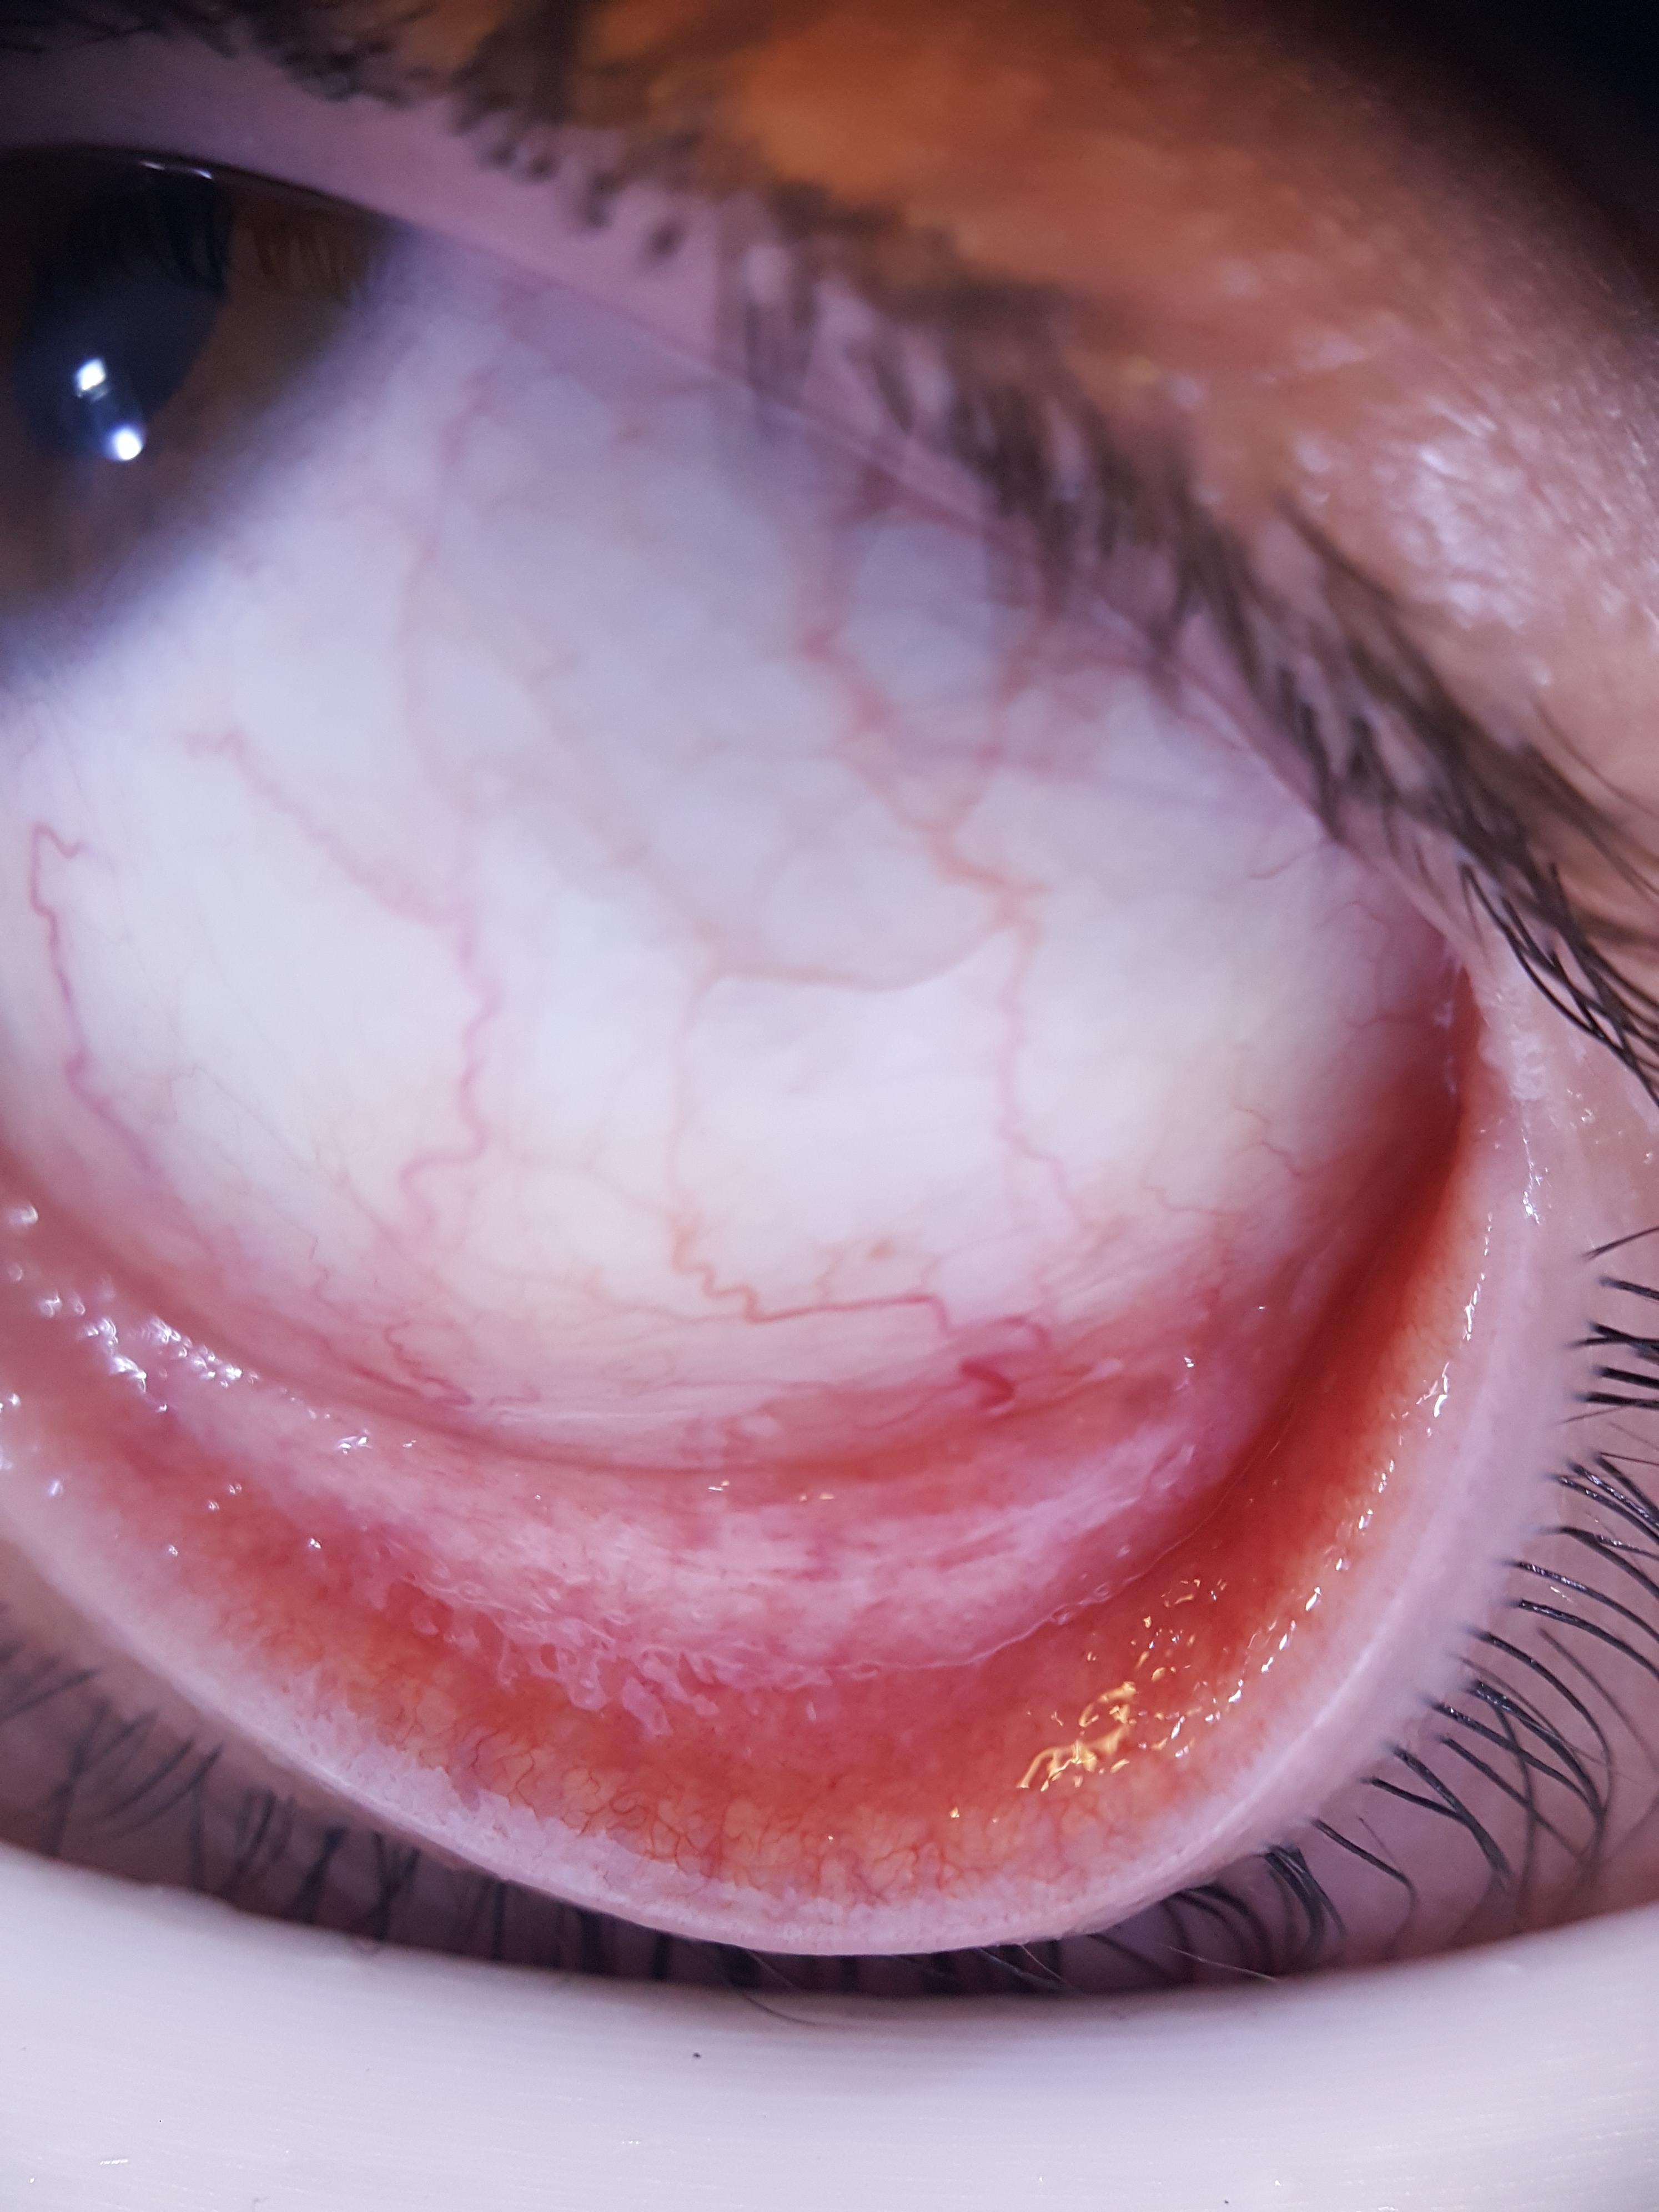forniceal: (0, 1123, 1422, 1684)
forniceal_palpebral: (0, 1106, 1460, 1883)
palpebral: (0, 1123, 1452, 1869)
